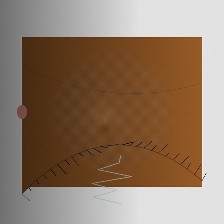foreign_body_visible: (122, 106, 138, 119)
